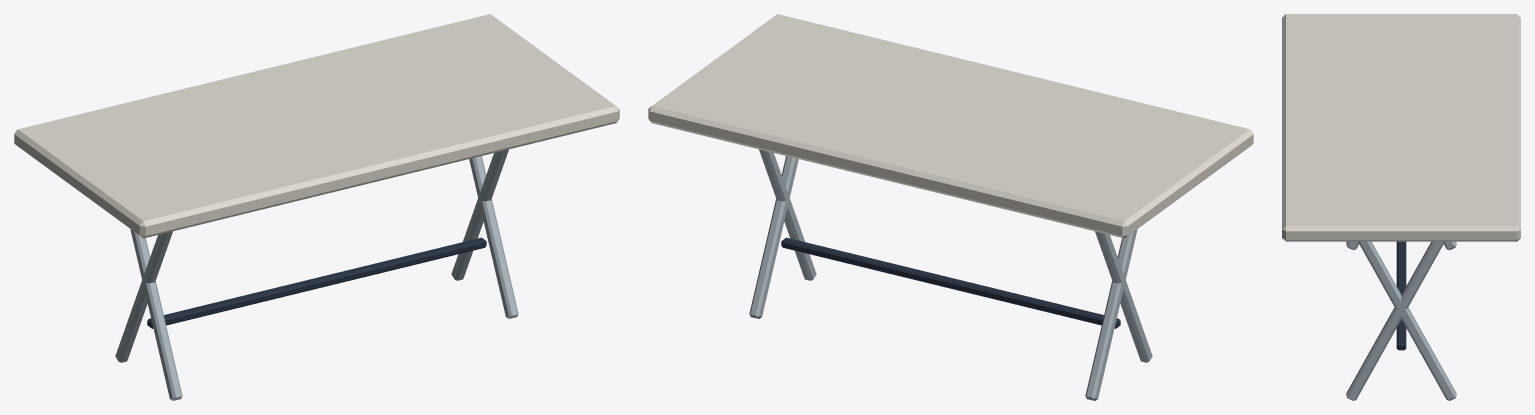
File: lounge_09.glb
The picture shows the model from 3 angles, left to right: view 1: azimuth 30°, elevation 25°; view 2: azimuth 150°, elevation 25°; view 3: azimuth 270°, elevation 25°; orthographic projection. The views are drawn at different scales.
Parts seen in each view (by area): view 1: FoldingTop, FoldingLeg (×4), CrossSupport; view 2: FoldingTop, FoldingLeg (×4), CrossSupport; view 3: FoldingTop, FoldingLeg (×2), CrossSupport.
Part boxes in pixels (<box>): FoldingTop: <box>14,14,619,238</box>; FoldingLeg (×4): <box>115,149,518,400</box>; CrossSupport: <box>147,237,486,328</box>; FoldingTop: <box>648,14,1253,238</box>; FoldingLeg (×4): <box>749,149,1152,400</box>; CrossSupport: <box>781,237,1120,328</box>; FoldingTop: <box>1282,14,1520,241</box>; FoldingLeg (×2): <box>1346,241,1456,400</box>; CrossSupport: <box>1396,241,1406,350</box>.
Bounding box in the file's own units: 1.6 × 0.7087 × 0.75.
